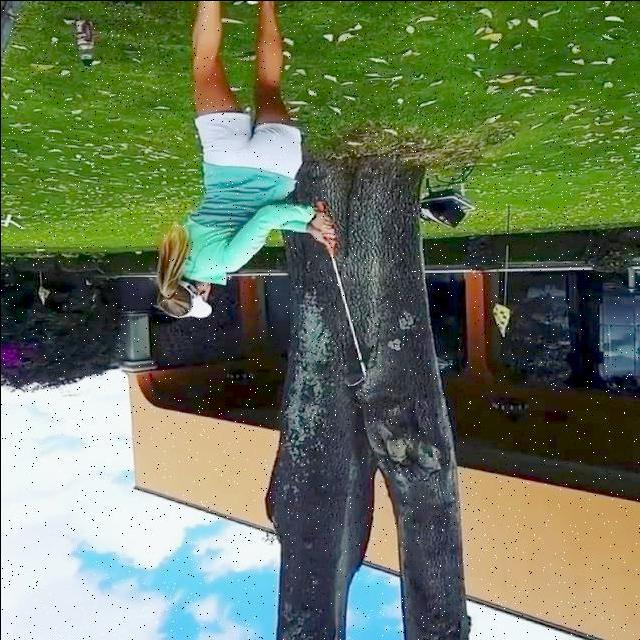ClubHandle: (316, 197, 367, 385)
ClubHead: (345, 370, 367, 385)
